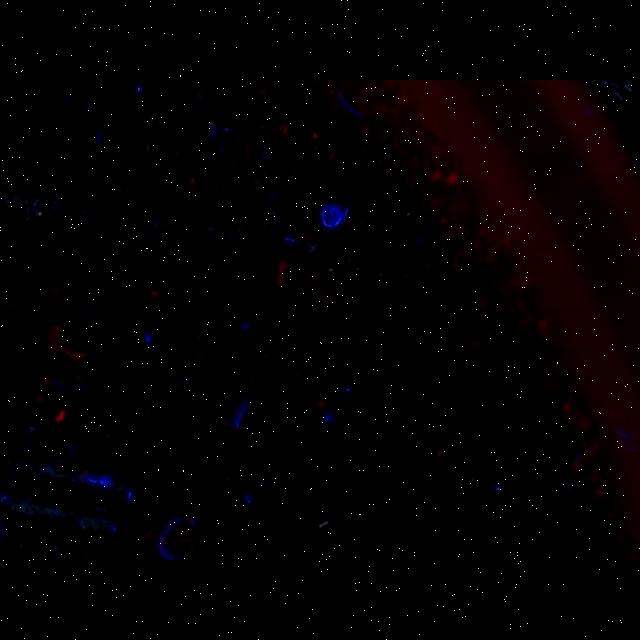microbeads: (316, 520, 328, 528)
